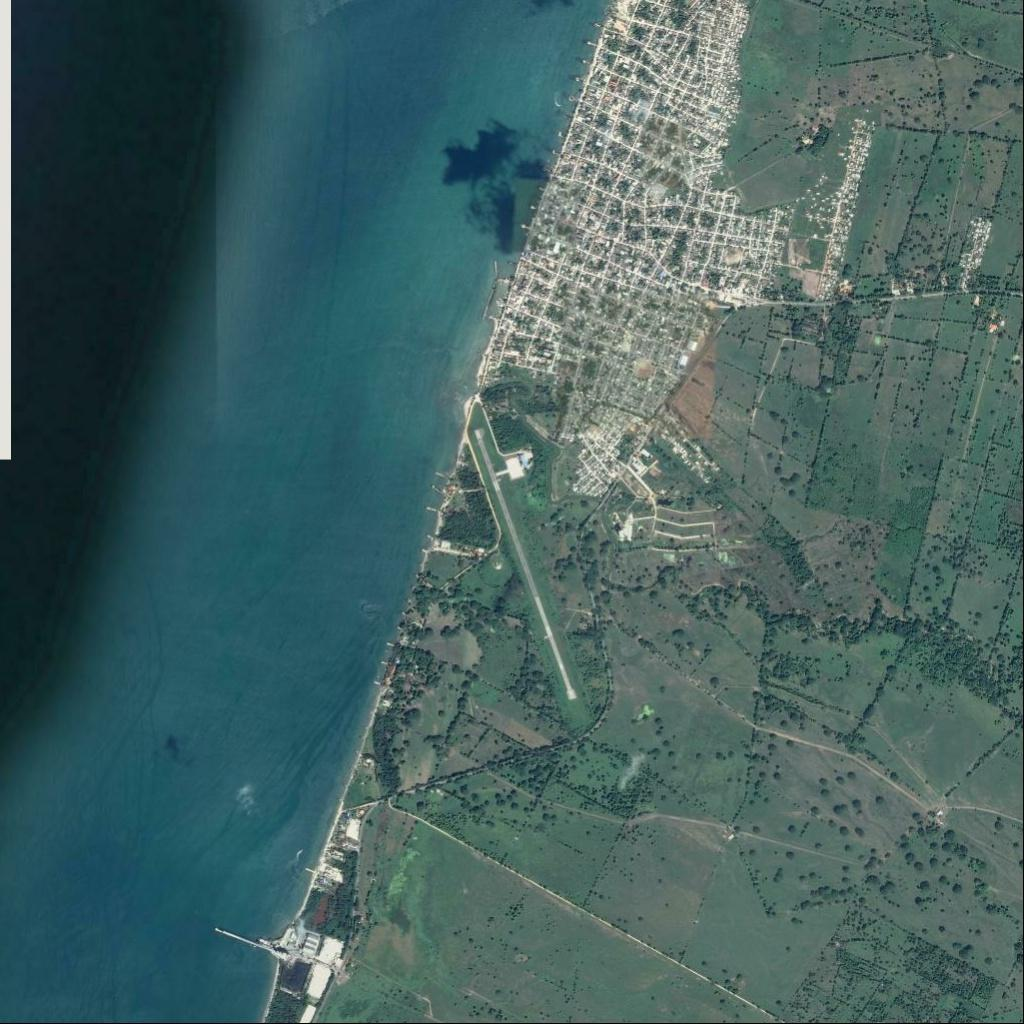harbor: (215, 928, 269, 952)
